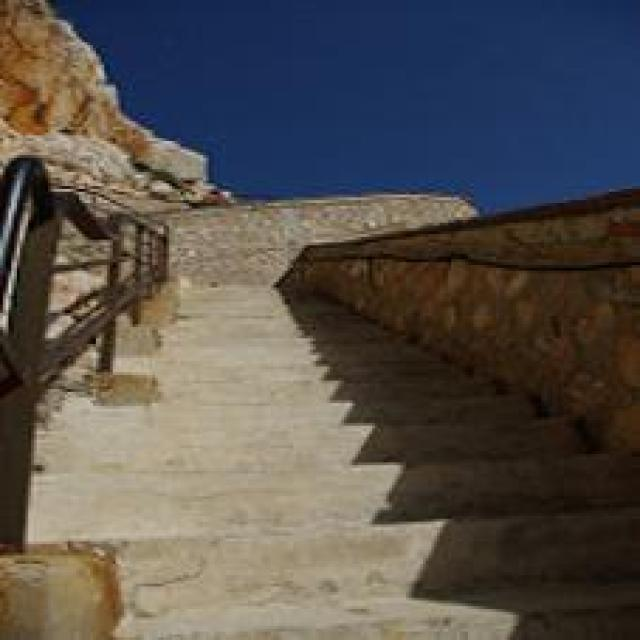upstair: (77, 320, 590, 613)
